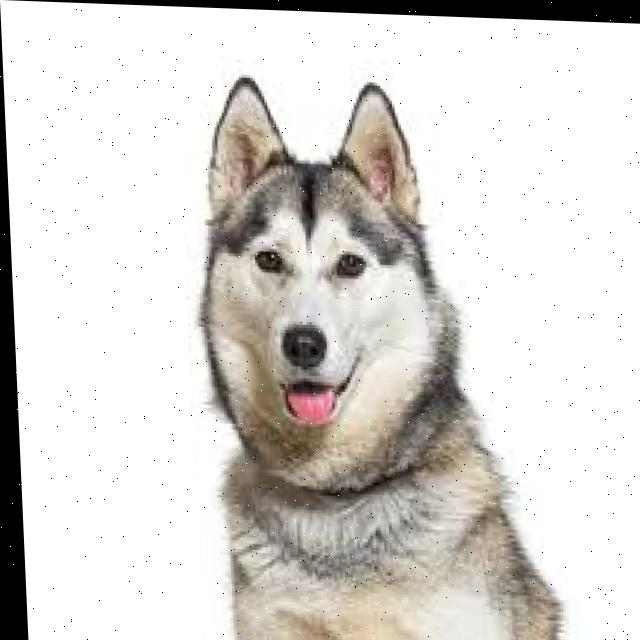ALASKAN_MALAMUTE: (157, 42, 574, 640)
